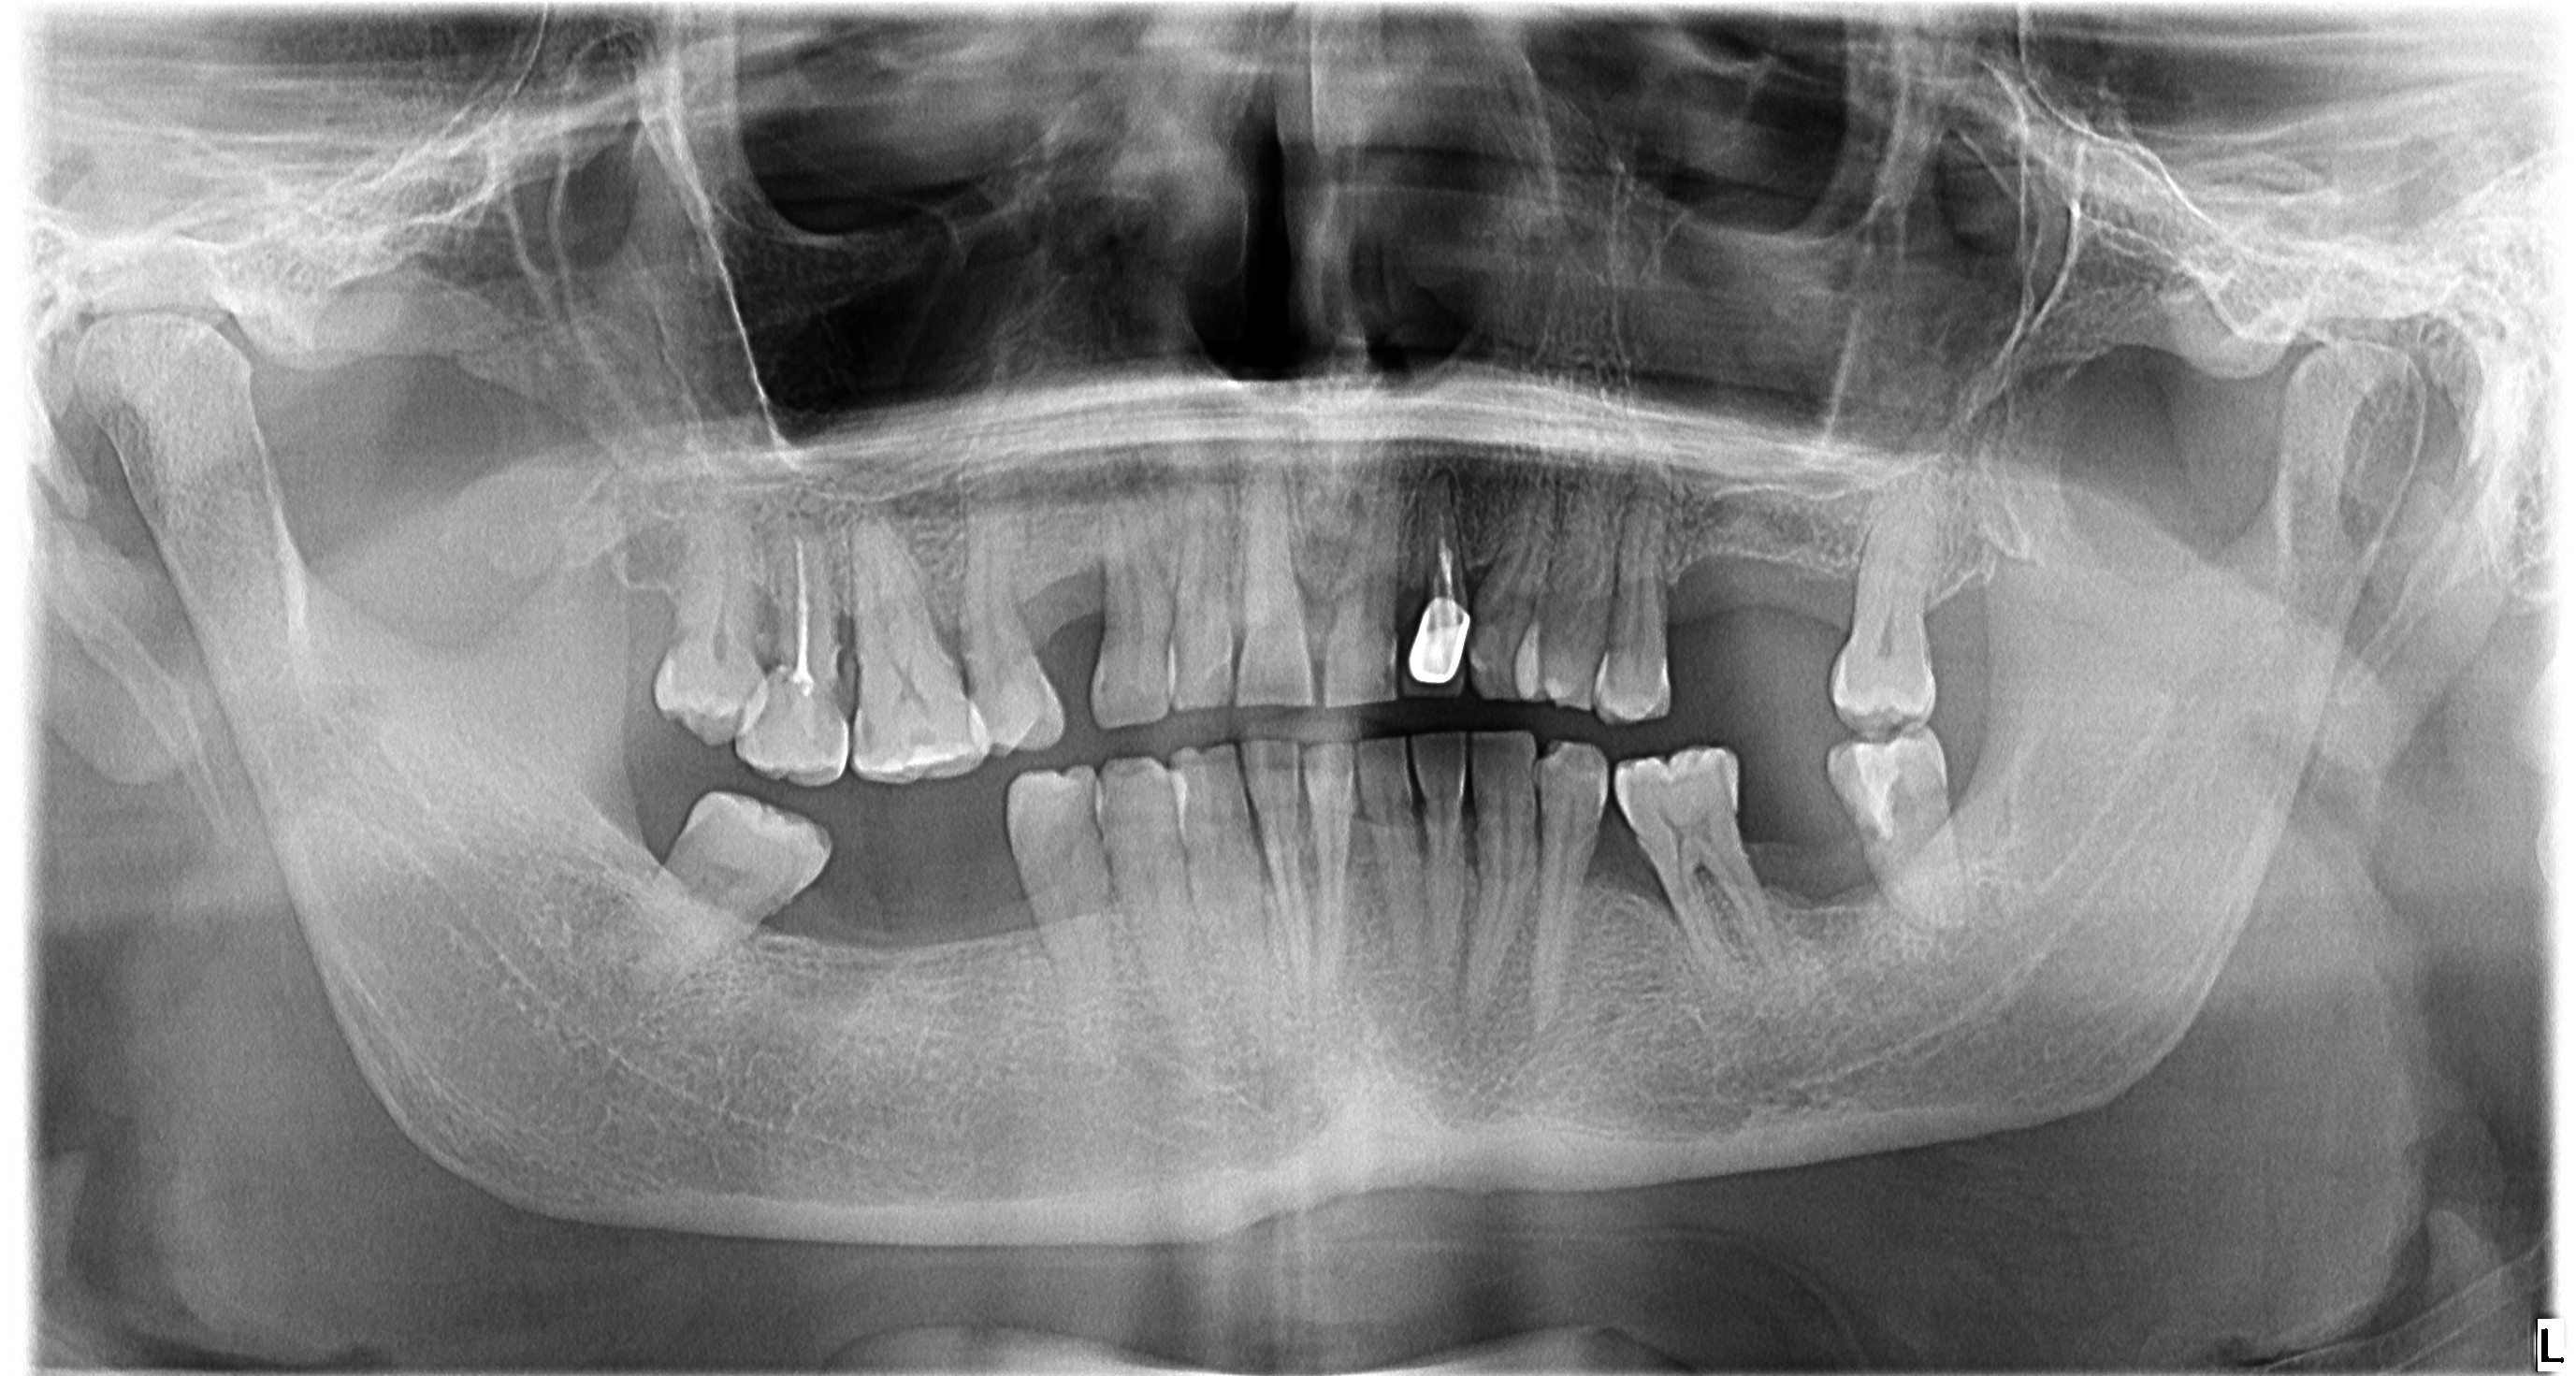API: (1419, 446, 1470, 506)
CAR: (823, 637, 850, 722), (1840, 802, 1886, 851), (845, 705, 881, 758), (898, 724, 937, 754)
END: (785, 521, 821, 705), (1428, 516, 1462, 606)
FUR: (1682, 857, 1736, 913)
IMT: (1608, 865, 1687, 937), (1034, 553, 1101, 635), (751, 569, 785, 652), (823, 603, 860, 671), (937, 606, 975, 673), (1469, 538, 1498, 591), (1395, 564, 1417, 620)
OBT: (1404, 603, 1470, 703)
PRR: (1847, 739, 1908, 821)
